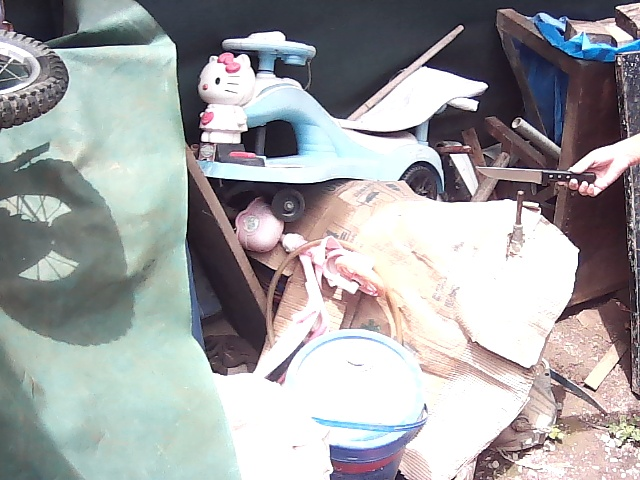cuchillo: (472, 159, 600, 192)
